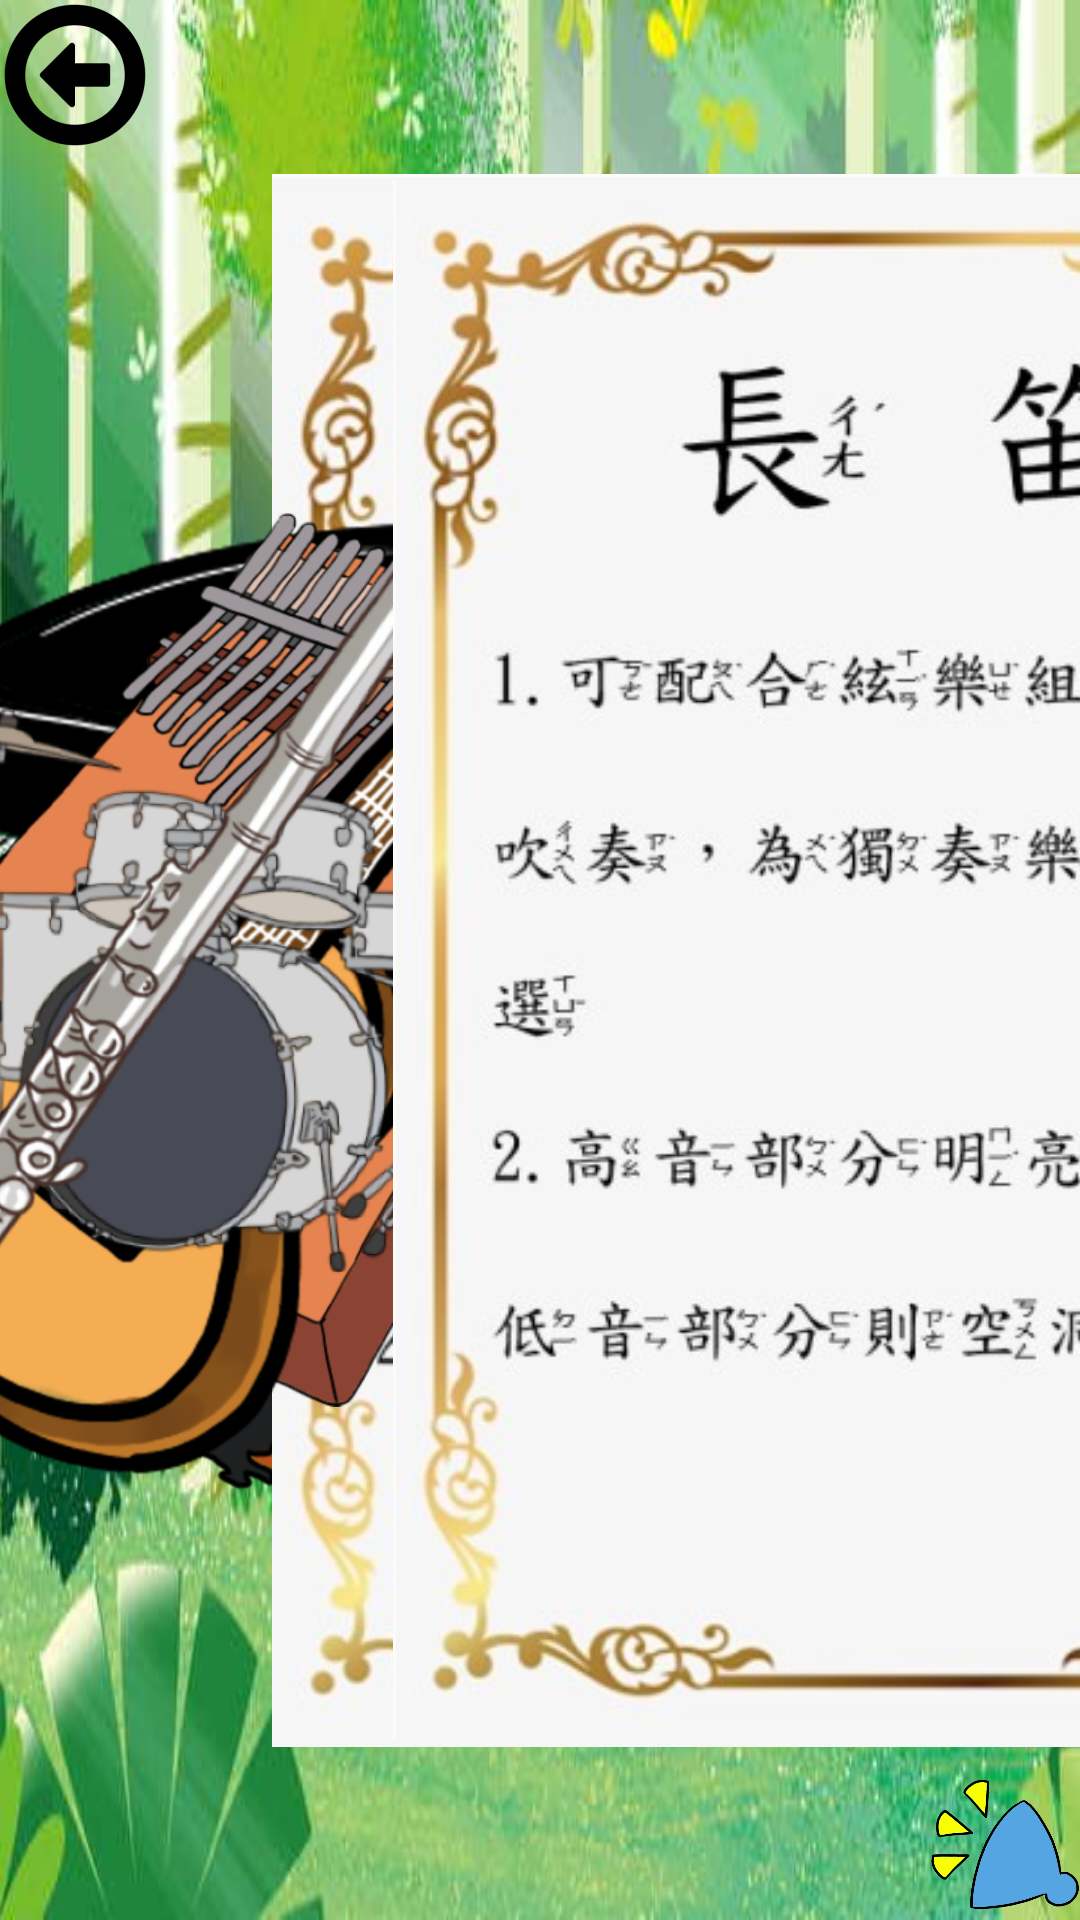

Screen size 1080w x 1920h. Icon name, then its center in pixels as point (x, y):
backbutton: point (75, 75)
speacker: point (1005, 1845)
